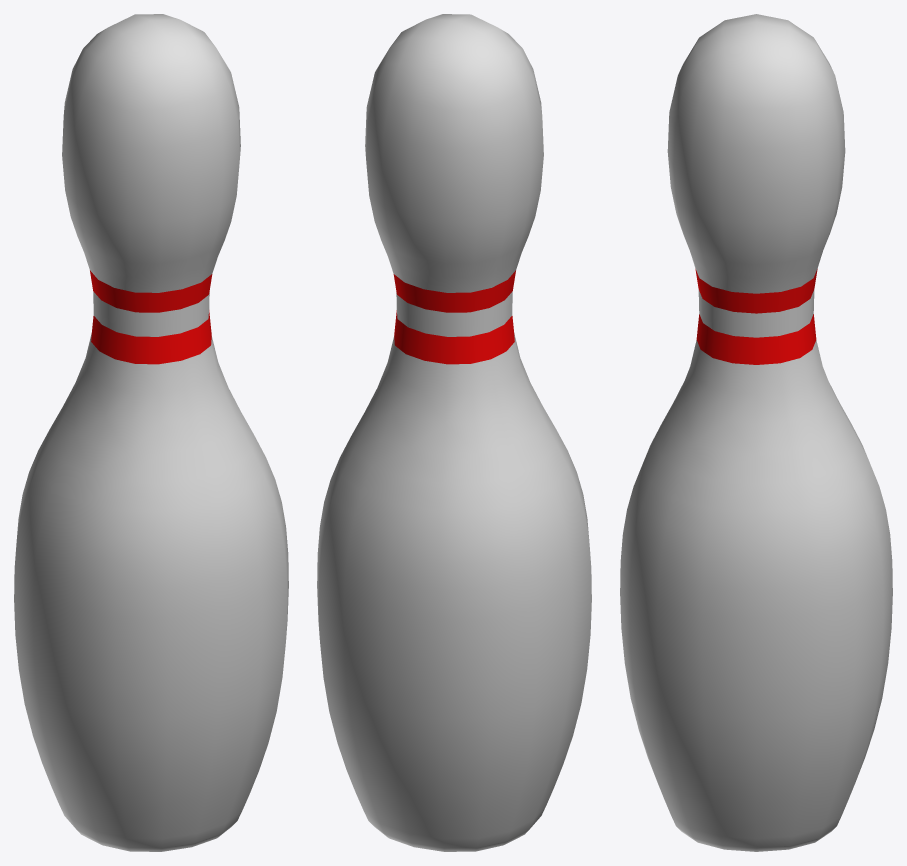
Rendered from bowling_pin.glb.
3 renders of one model, left to right at view 1: azimuth 30°, elevation 25°; view 2: azimuth 150°, elevation 25°; view 3: azimuth 270°, elevation 25°, orthographic.
Visible parts, largest first — view 1: bowling_pin; view 2: bowling_pin; view 3: bowling_pin.
Boxes of the visible parts, box(x1,y1,x2,y2) form: bowling_pin: box(14, 14, 288, 851); bowling_pin: box(317, 14, 591, 851); bowling_pin: box(620, 14, 892, 851).
Bounding box in the file's own units: 0.6905 × 2.23 × 0.6905.
